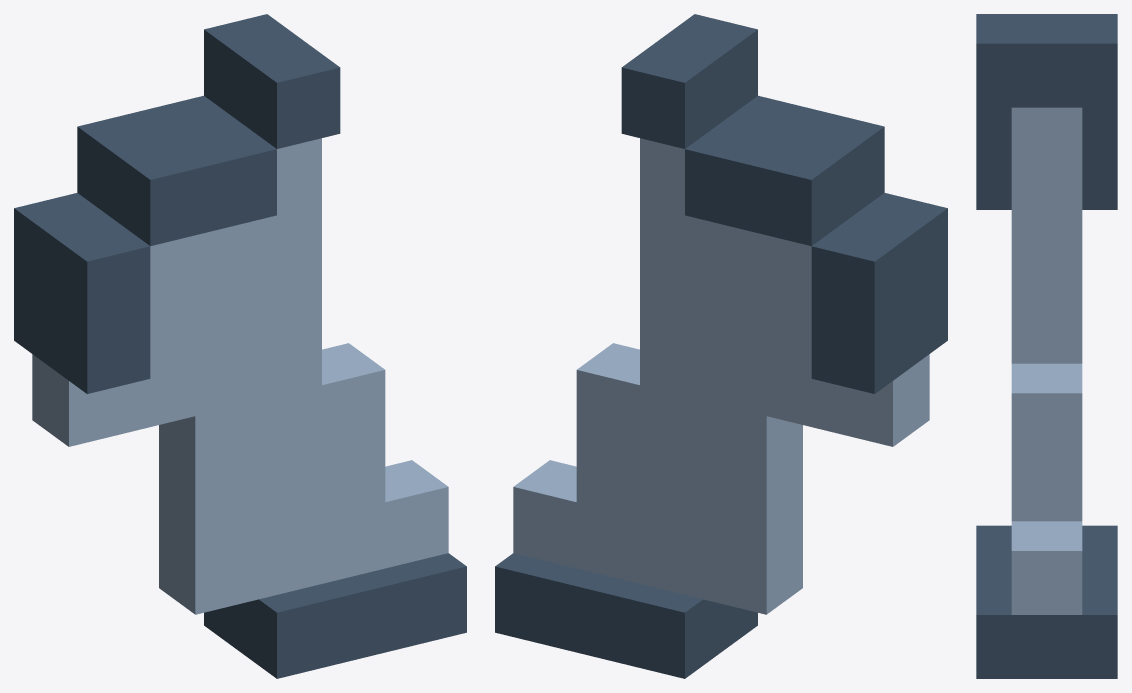
The model's file is Broken Rock3.fbx.
The picture shows the model from 3 angles, left to right: view 1: azimuth 30°, elevation 25°; view 2: azimuth 150°, elevation 25°; view 3: azimuth 270°, elevation 25°; orthographic projection. The views are drawn at different scales.
Parts seen in each view (by area): view 1: generated; view 2: generated; view 3: generated.
Part boxes in pixels (x1=…): generated: x1=14, y1=14, x2=466, y2=678; generated: x1=495, y1=14, x2=947, y2=678; generated: x1=976, y1=14, x2=1117, y2=678.
Size of the model in its own units: 60 by 90 by 20.
